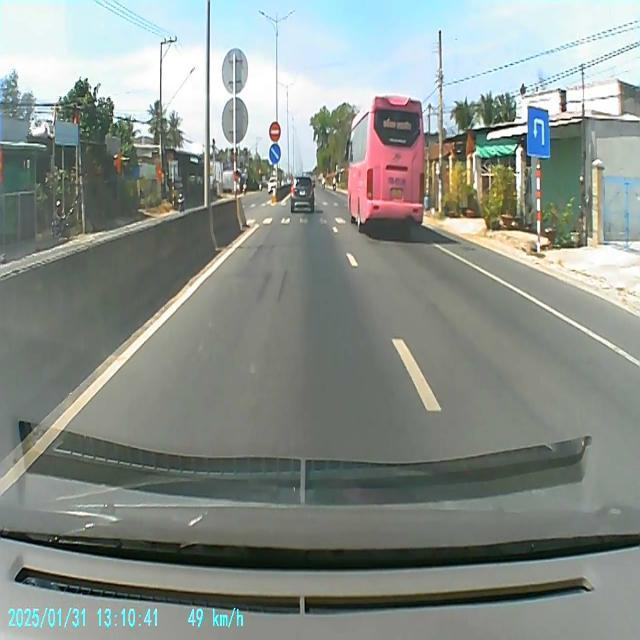102-cam-di-nguoc-chieu: (268, 121, 280, 141)
302a-huong-phai-di-vong-chuong-ngai-vat-1: (269, 143, 281, 165)
